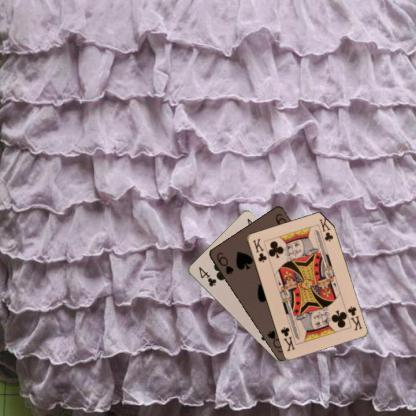4c: (196, 264, 217, 288)
6s: (214, 250, 234, 276)
Kc: (345, 303, 363, 332), (250, 236, 268, 263)
